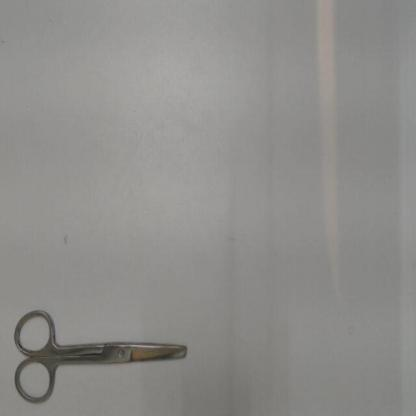Dressing Scissors: (4, 294, 190, 413)
